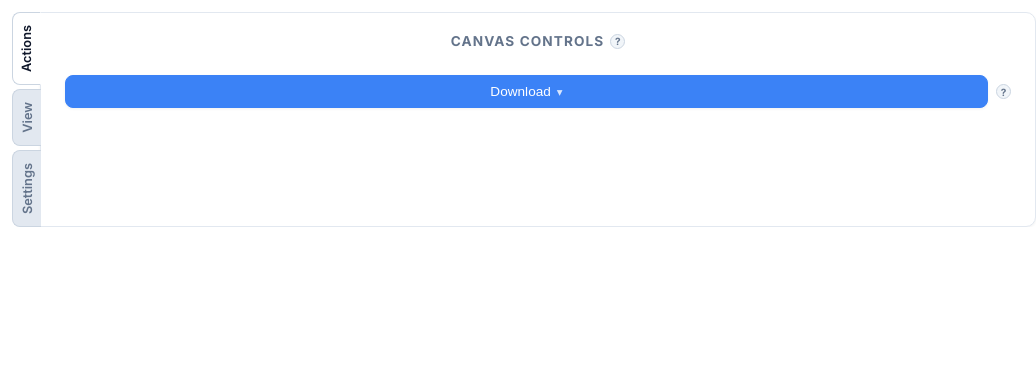
Scenario: CanvasControls help icons › shows help icons for Standalone Primitives and Reference Arrows in Python Tutor mode
Click the button "Settings" at (26, 188), box [12,150,41,227]
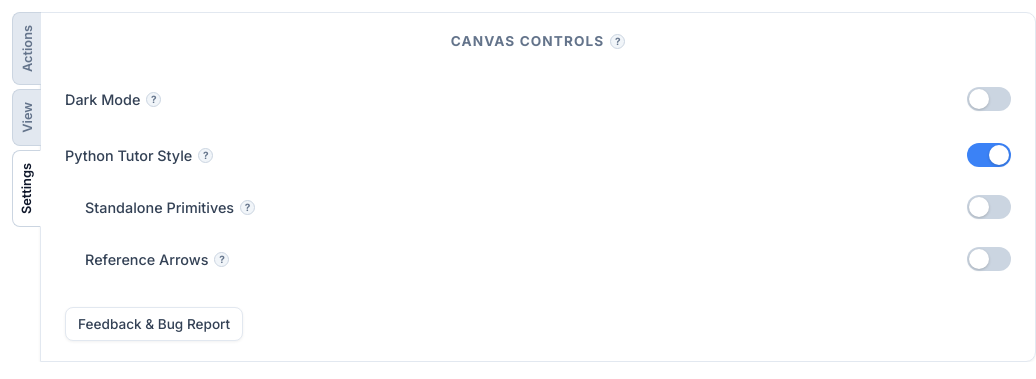
Result: the button named "Help: Standalone Primitives" is shown at [240,200,255,214]
Result: the button named "Help: Reference Arrows" is shown at [214,252,230,266]
